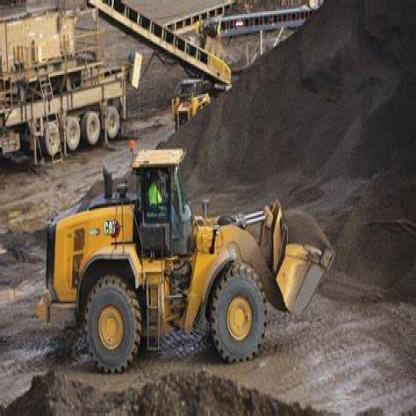bull_dozer/loader/grader: (50, 139, 339, 386)
